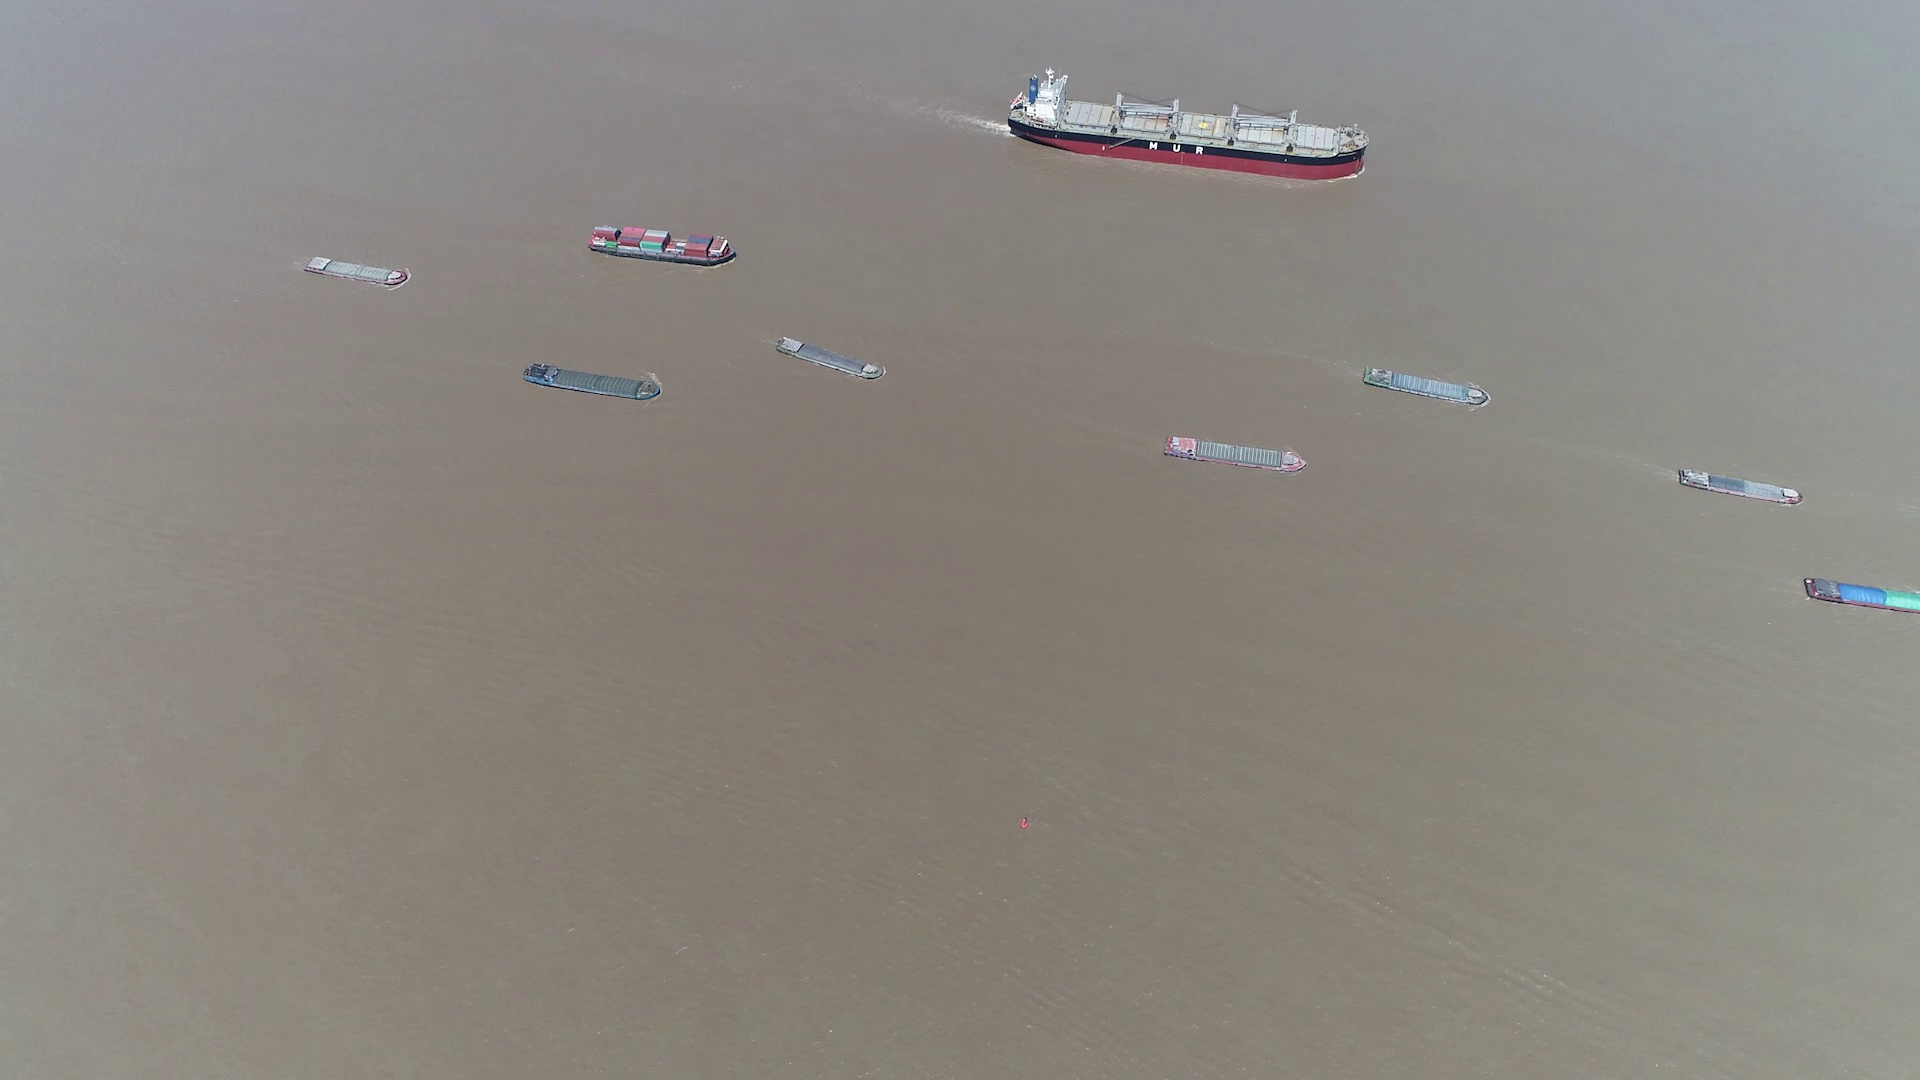ship: (1007, 71, 1367, 177), (589, 225, 737, 266), (1163, 434, 1305, 472), (522, 364, 663, 402), (1365, 365, 1491, 407), (775, 336, 886, 381), (1677, 468, 1804, 506), (1804, 578, 1920, 615), (301, 255, 410, 286)
